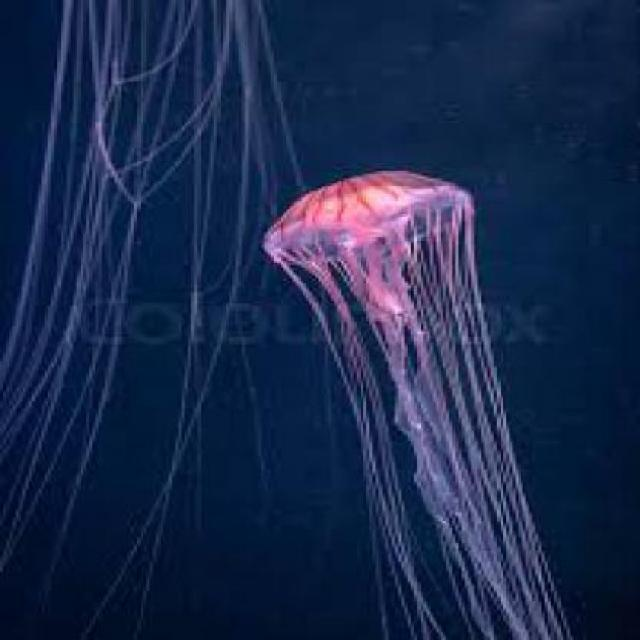Jellyfish: (252, 162, 574, 636)
